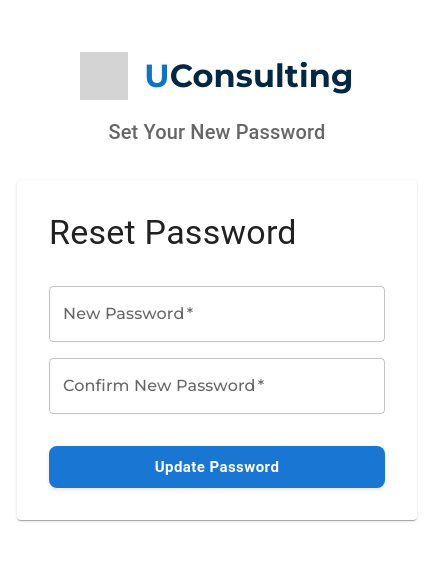
ResetPassword › displays the server error message when the reset request fails
Type "password1" into the password field labelled "New Password *" at x=217, y=314, box left=49, top=286, right=385, bottom=342
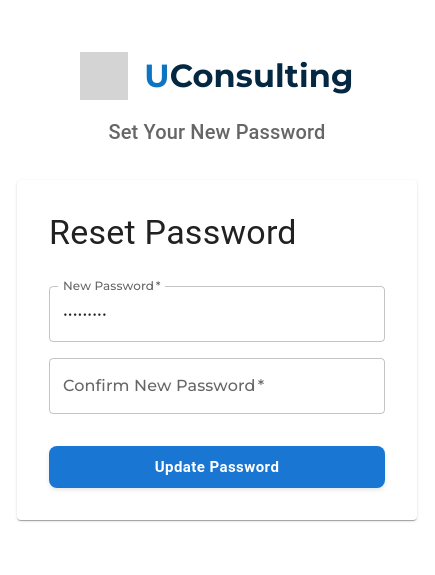
Type "password1" into the password field labelled "Confirm New Password *" at x=217, y=386, box left=49, top=358, right=385, bottom=414
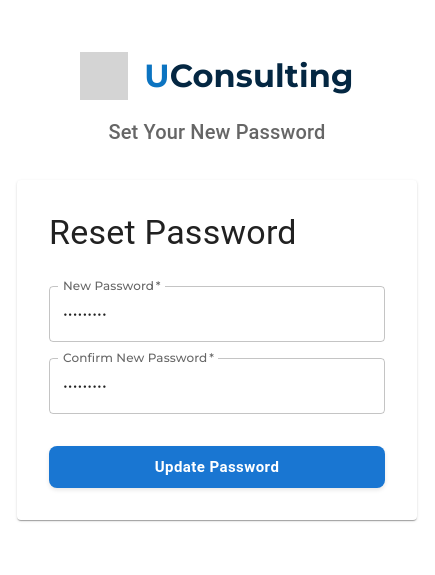
Submit the form with test id "reset-password-form", box left=49, top=286, right=385, bottom=488
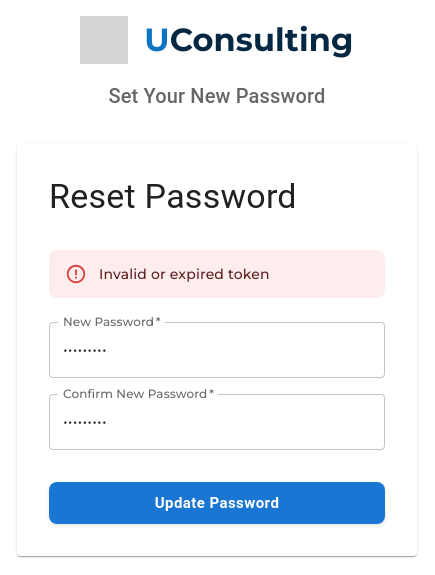
Result: the text "Invalid or expired token" is shown at left=99, top=265, right=270, bottom=283
